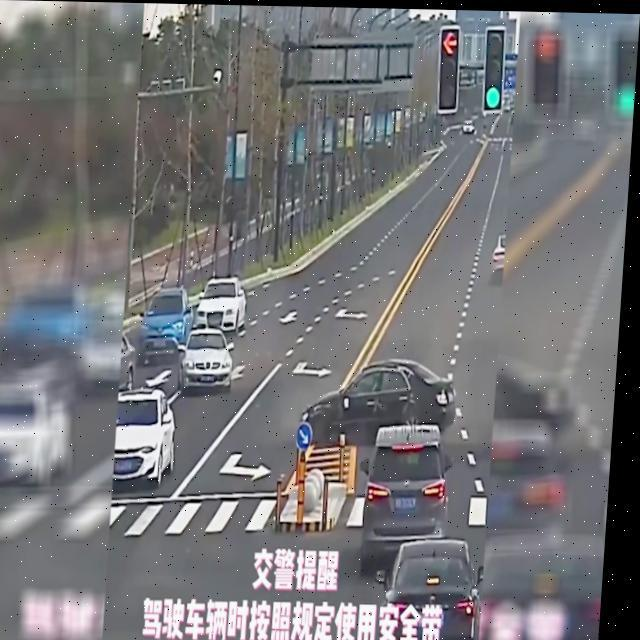normal: (283, 342, 500, 640), (138, 212, 253, 492)
